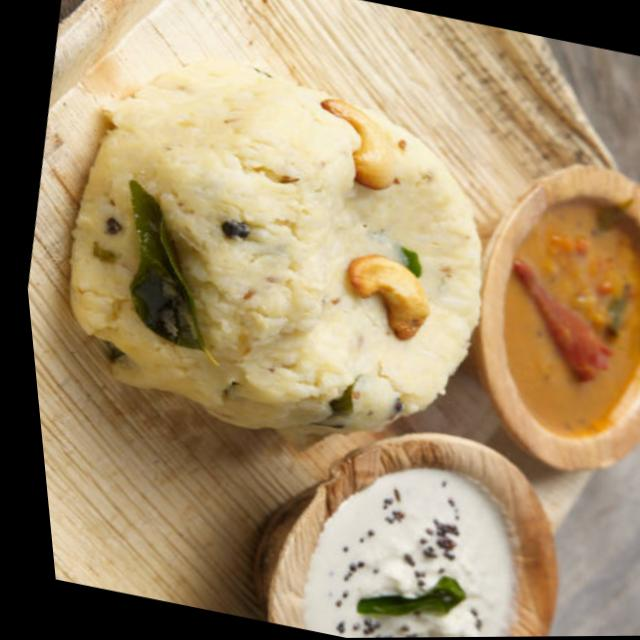PONGAL: (69, 61, 484, 436)
SAMBAR: (504, 199, 640, 438)
WHITE CHUTNEY: (301, 466, 523, 638)
